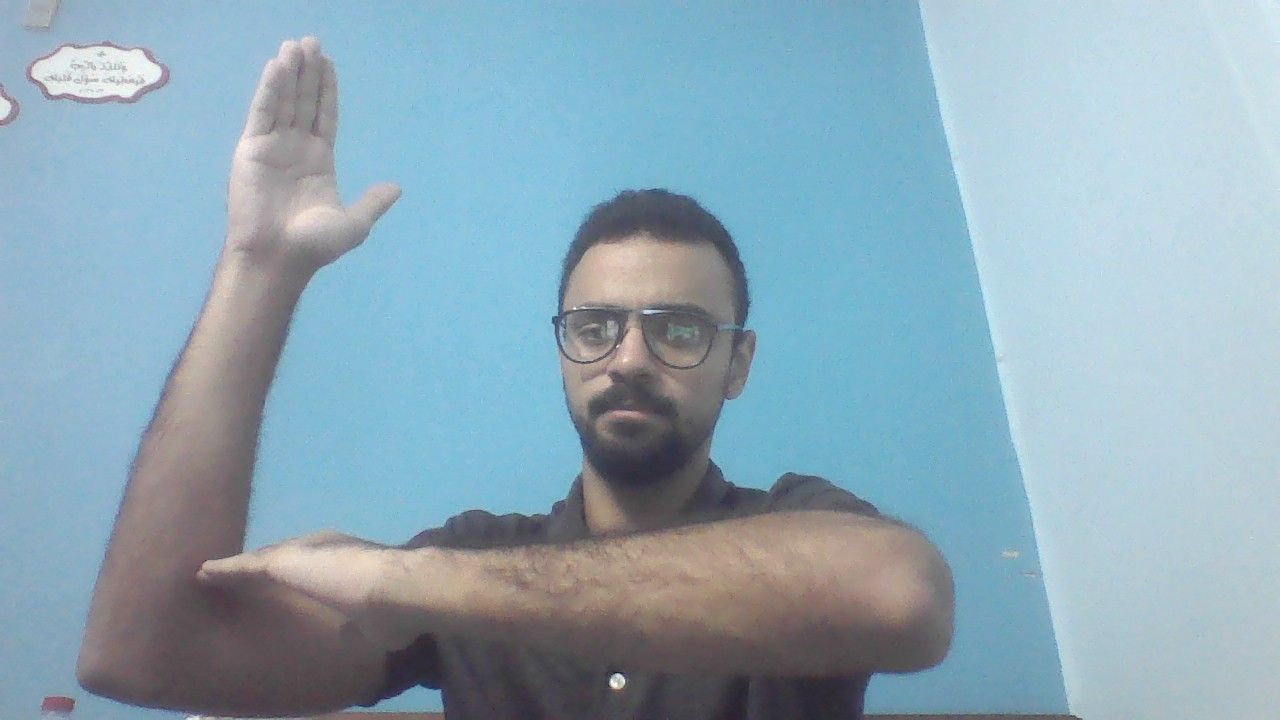morning: (79, 35, 958, 706)
